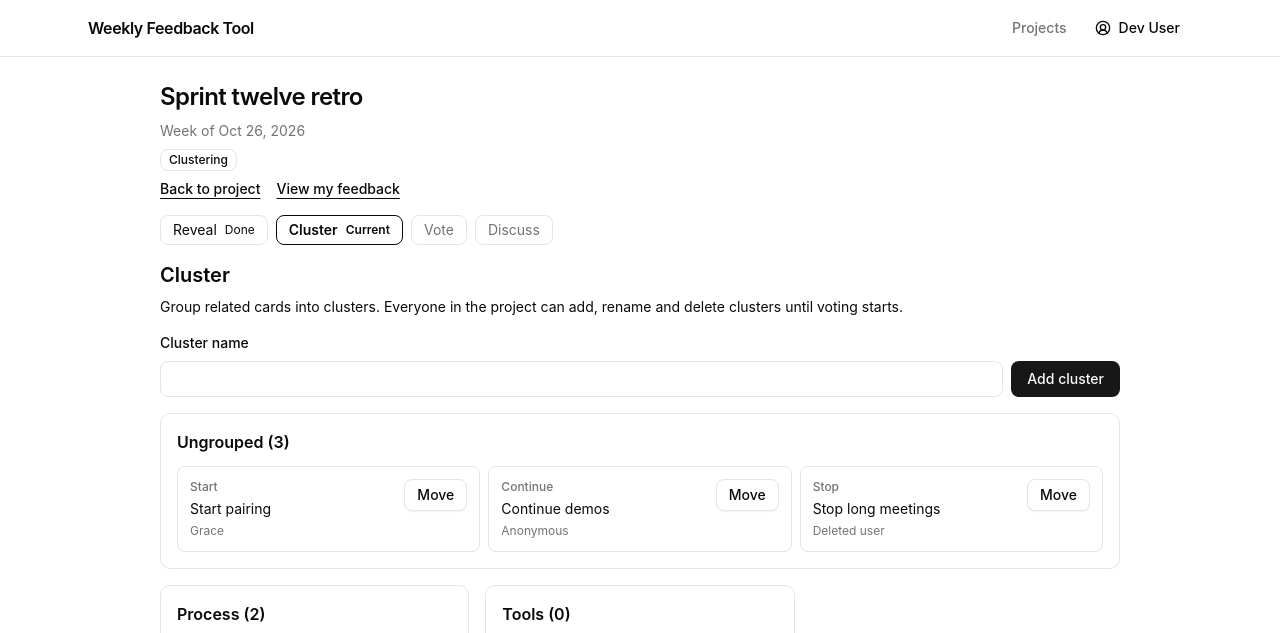
Test: adding a cluster › process  shows "A cluster with this name already exists." inline with no request
Type "  process " into the field labelled "Cluster name" at (582, 379), box [160,361,1003,397]
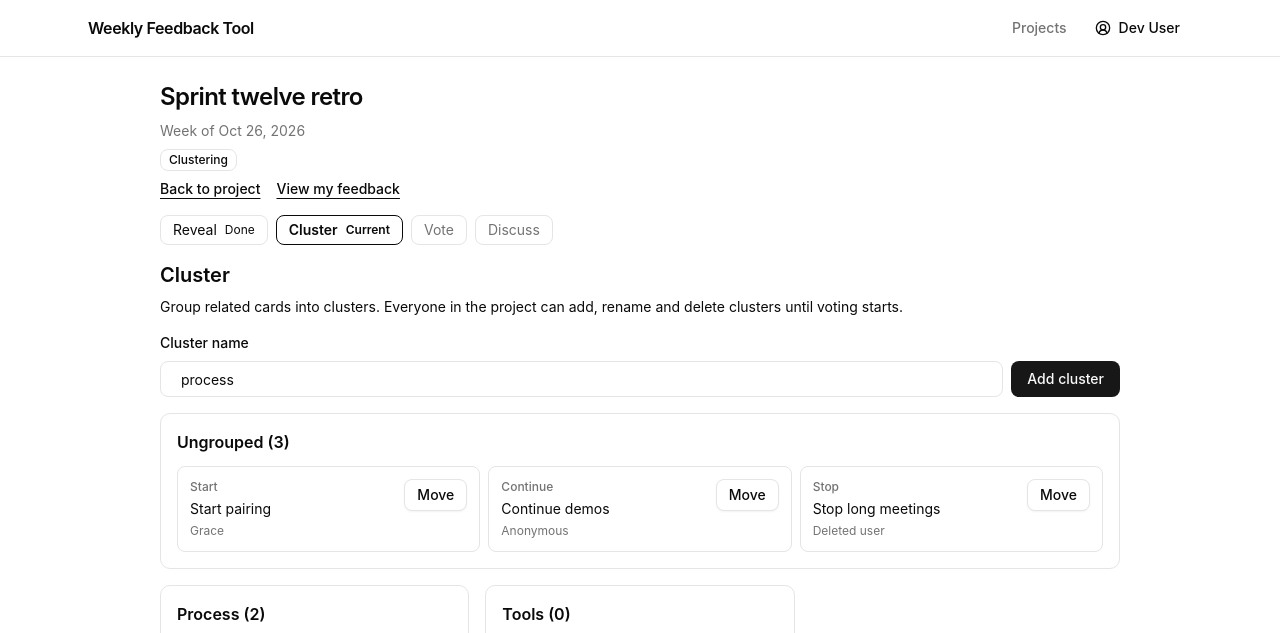
Click the button "Add cluster" at (1066, 379), box [1011,361,1120,397]
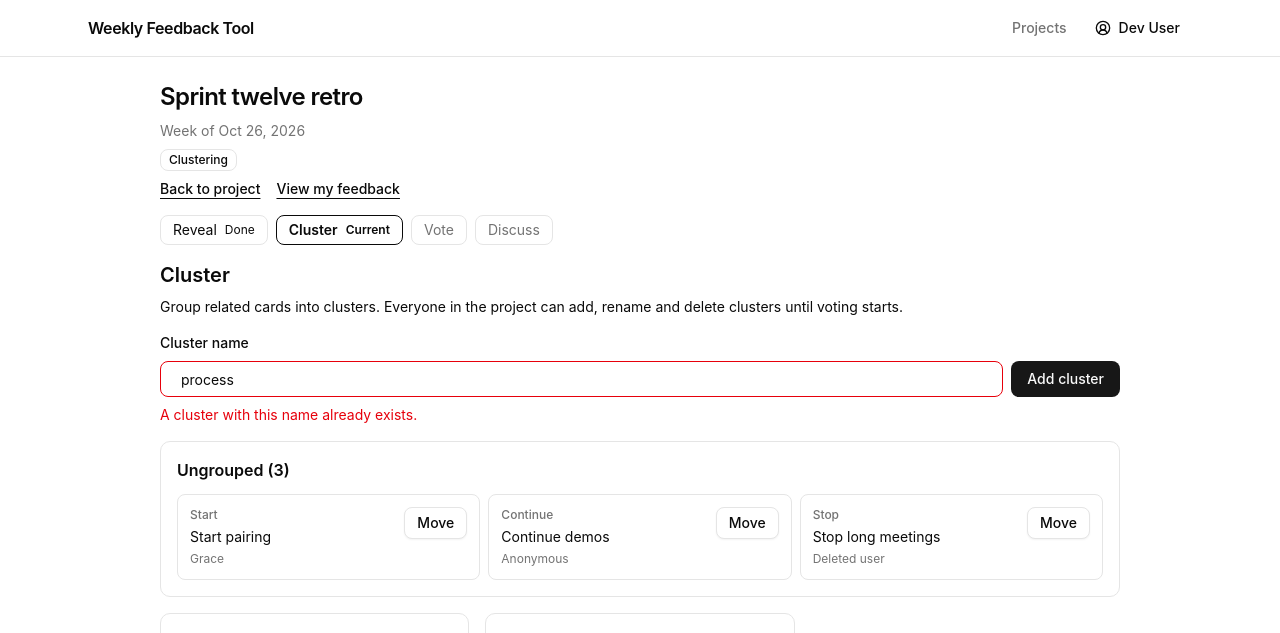
Replace the text in the field labelled "Cluster name" with "Docs" at (582, 379), box [160,361,1003,397]
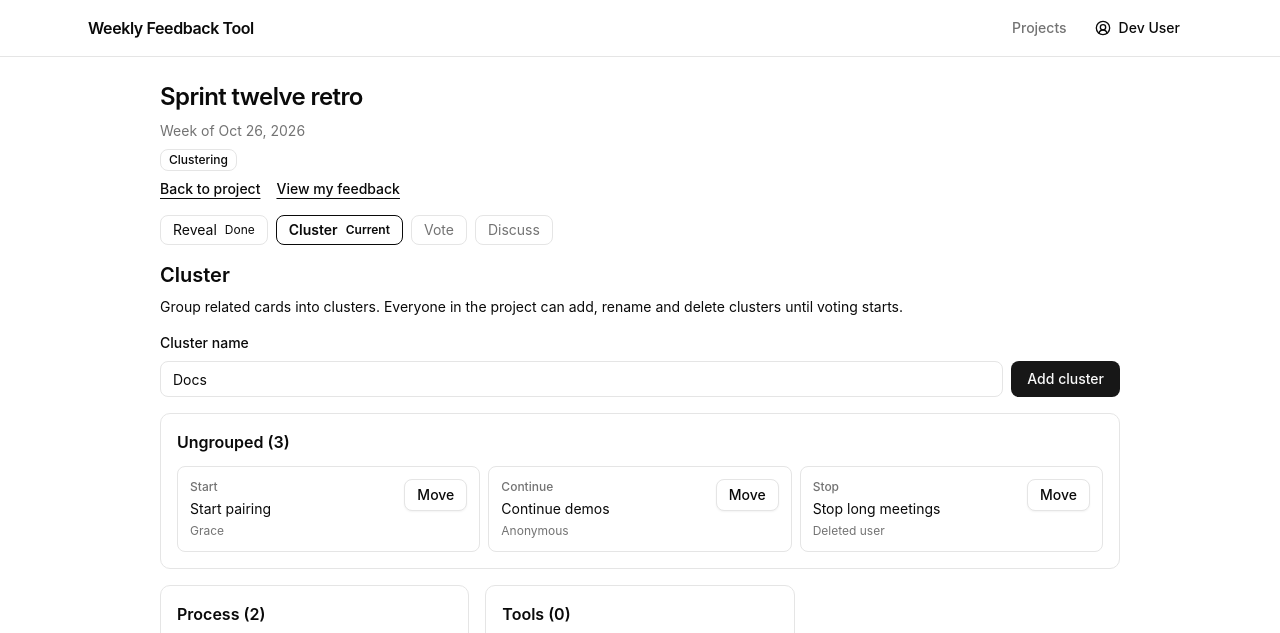
Expected: the text "A cluster with this name already exists." is gone
